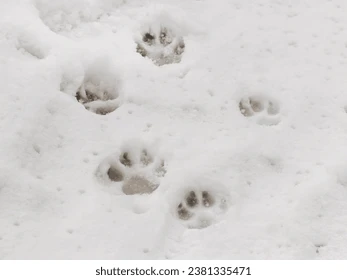chien: (103, 147, 168, 198), (172, 190, 229, 232), (134, 27, 187, 69)
